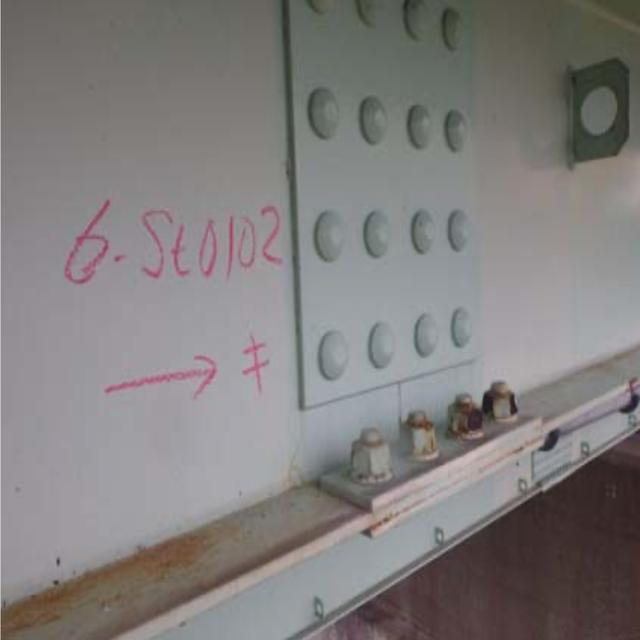corrosion: (348, 338, 523, 498)
